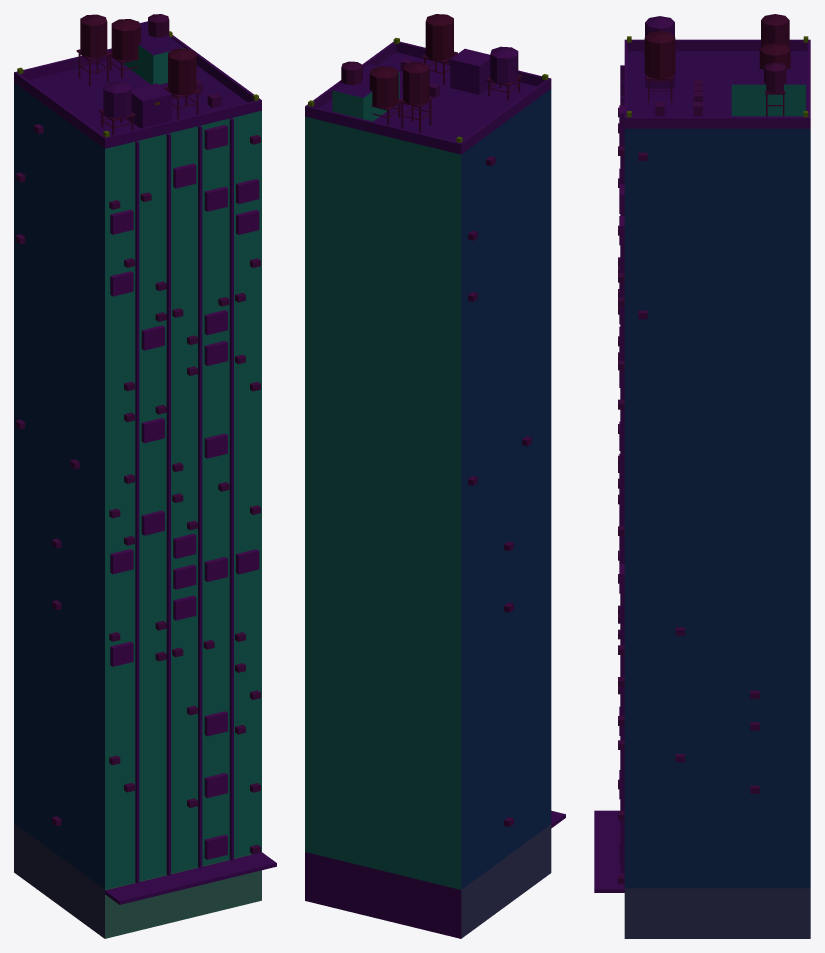
File: slab_g.glb
3 renders of one model, left to right at view 1: azimuth 30°, elevation 25°; view 2: azimuth 150°, elevation 25°; view 3: azimuth 270°, elevation 25°, orthographic. The views are drawn at different scales.
Parts seen in each view (by area): view 1: slab_g; view 2: slab_g; view 3: slab_g.
Part boxes in pixels (x1,y1,x2,y2): slab_g: (14, 14, 276, 938); slab_g: (305, 14, 565, 938); slab_g: (594, 14, 810, 938).
Bounding box in the file's own units: 17.09 × 82.91 × 18.6.
